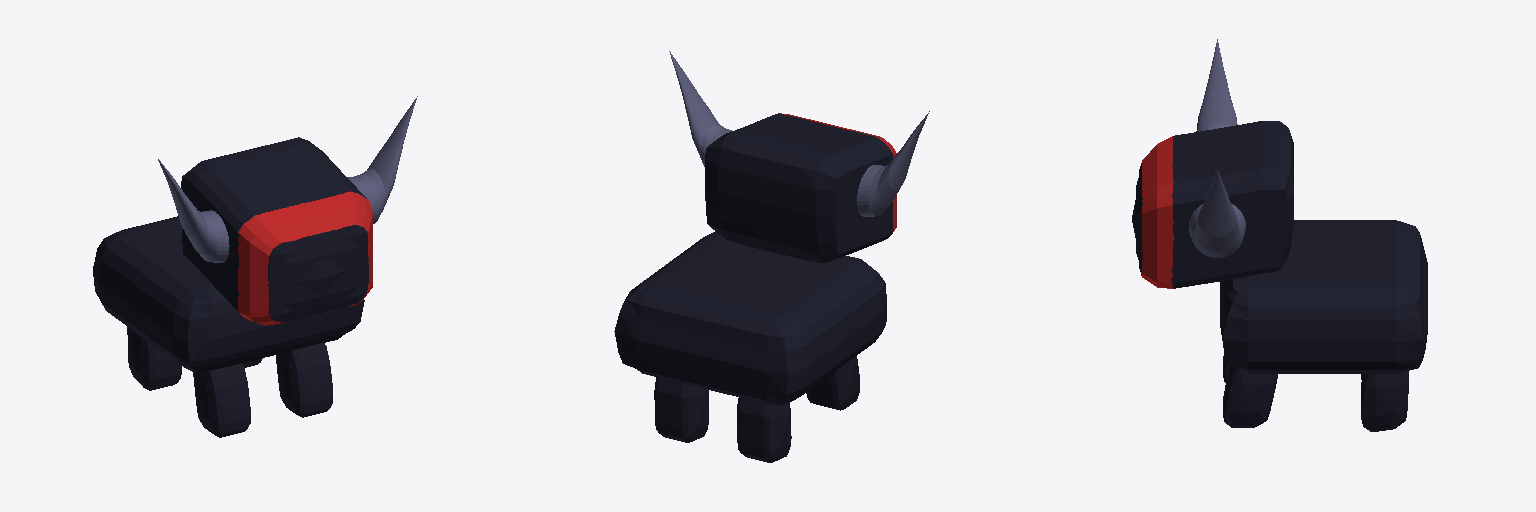
3 renders of one model, left to right at view 1: azimuth 30°, elevation 25°; view 2: azimuth 150°, elevation 25°; view 3: azimuth 270°, elevation 25°, orthographic.
Parts seen in each view (by area): view 1: 立方体.003; view 2: 立方体.003; view 3: 立方体.003.
Part boxes in pixels (bbox=[...]): 立方体.003: bbox=[93, 96, 417, 437]; 立方体.003: bbox=[614, 51, 929, 462]; 立方体.003: bbox=[1132, 39, 1427, 431].
Size of the model in its own units: 2.5 by 2.82 by 2.47.
1 materials, 1 textured.